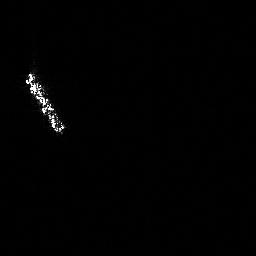ship: (22, 68, 70, 139)
